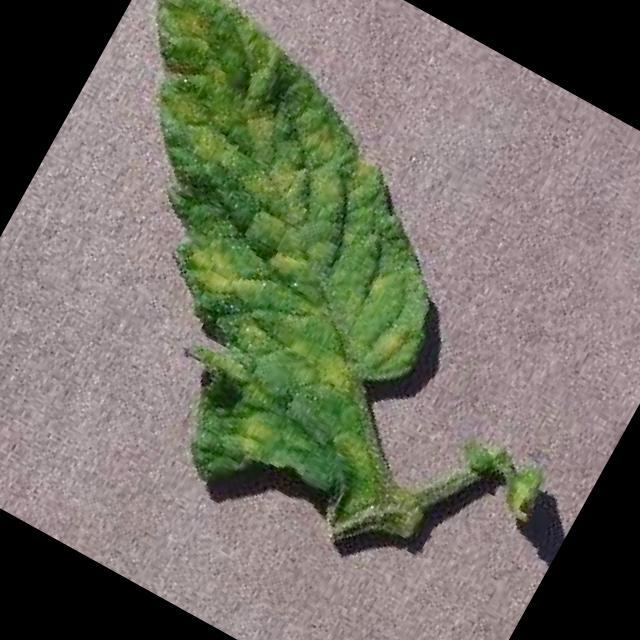Tomato mold leaf: (0, 0, 529, 544)
